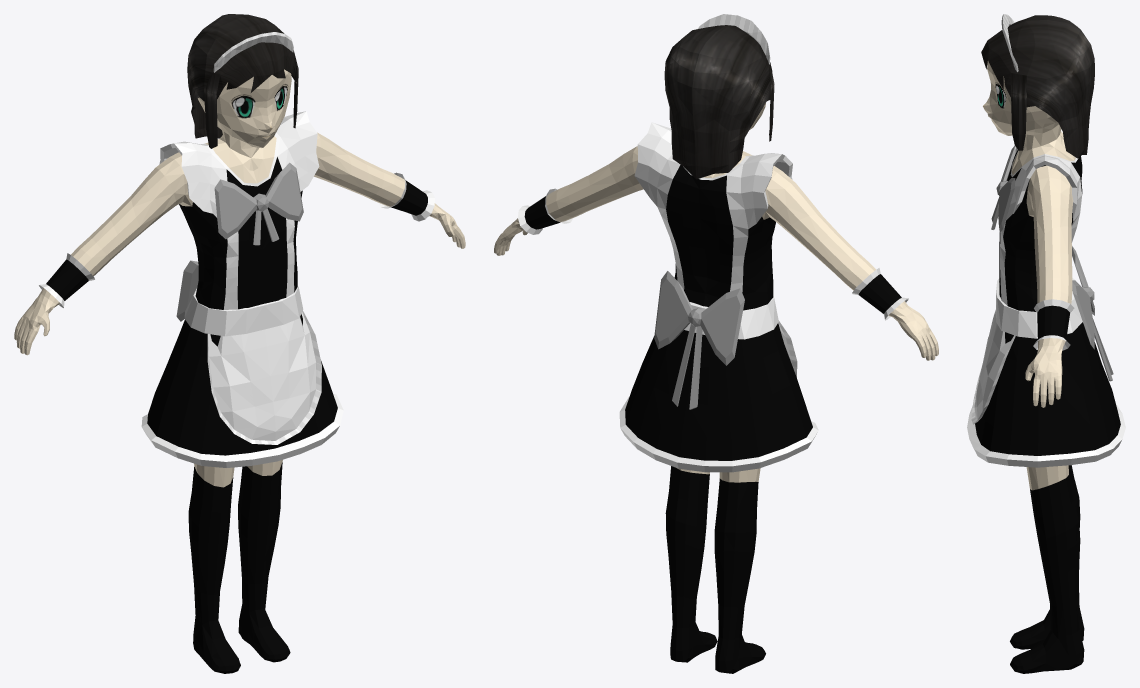
Rendered from CharModel.obj.
3 views of the same model, side by side, from view 1: azimuth 30°, elevation 25°; view 2: azimuth 150°, elevation 25°; view 3: azimuth 270°, elevation 25° (orthographic).
Visible parts, largest first — view 1: Character_HumanFemale_meHumanFemale; view 2: Character_HumanFemale_meHumanFemale; view 3: Character_HumanFemale_meHumanFemale.
Part boxes in pixels (x1,y1,x2,y2): Character_HumanFemale_meHumanFemale: (14,14,465,673); Character_HumanFemale_meHumanFemale: (494,14,938,673); Character_HumanFemale_meHumanFemale: (967,14,1125,673).
Size of the model in its own units: 1.97 by 2.72 by 0.6135.
Materials: 2 (1 with a texture image).
